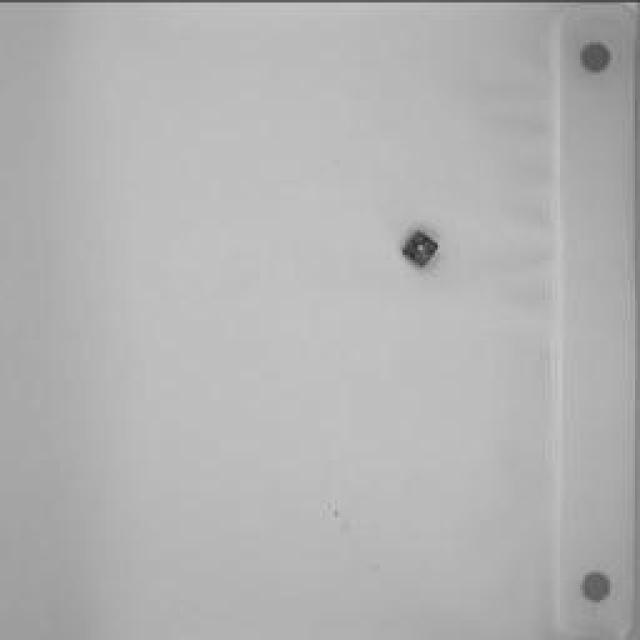dice_1: (402, 229, 440, 266)
